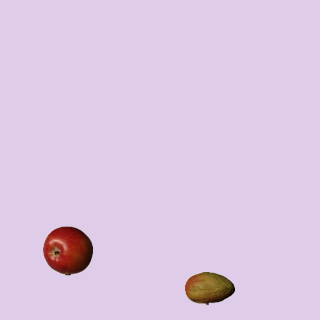Apple Braeburn: (42, 225, 92, 275)
Papaya: (184, 263, 234, 313)
